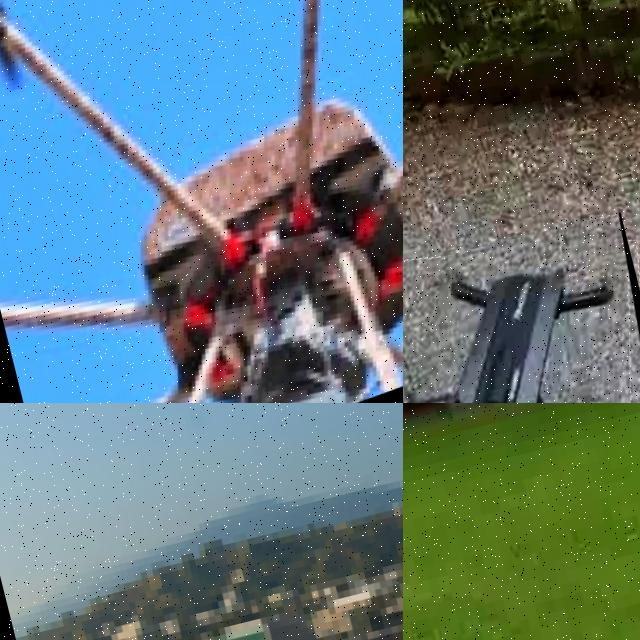0: (403, 211, 640, 403)
drone: (0, 0, 403, 403)
